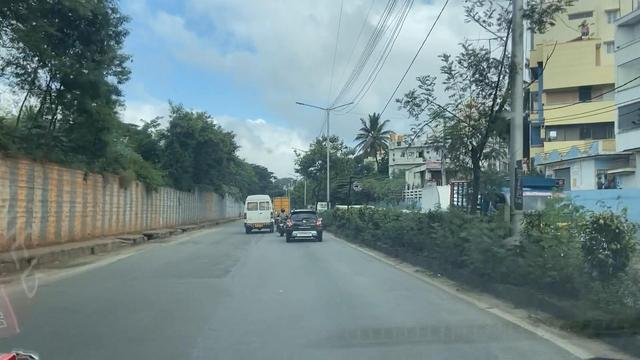HMV: (245, 195, 272, 235)
LMV: (289, 210, 325, 242), (275, 208, 287, 239)
